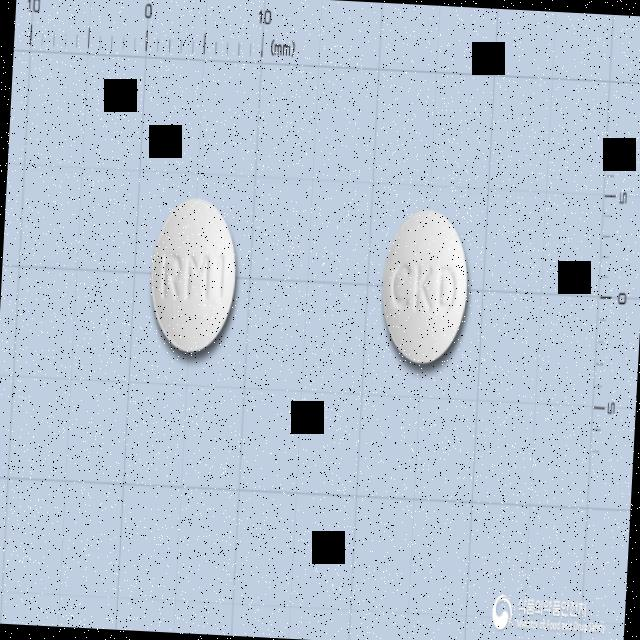Rheumide Tab: (378, 206, 473, 367), (147, 196, 241, 355)
